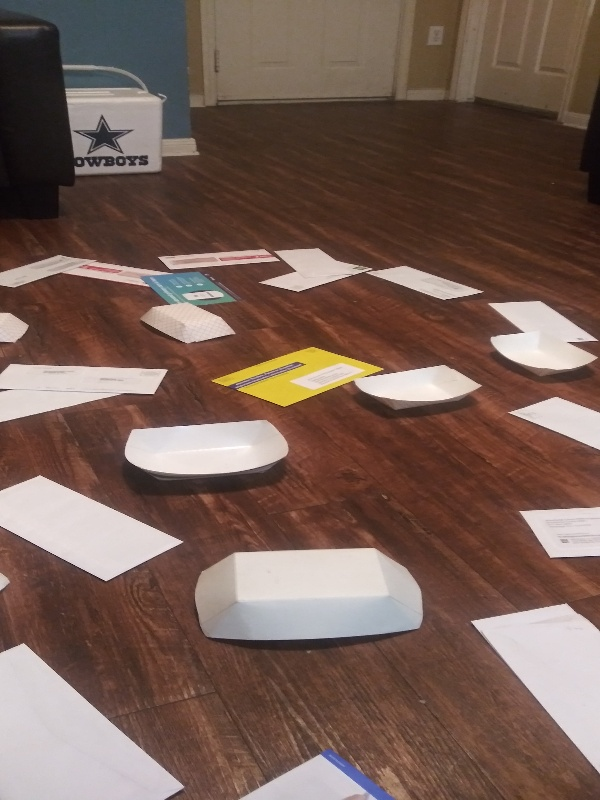plate: (191, 545, 428, 651), (119, 416, 296, 486), (350, 364, 486, 422), (486, 328, 600, 385), (134, 298, 237, 348), (1, 309, 32, 347)
